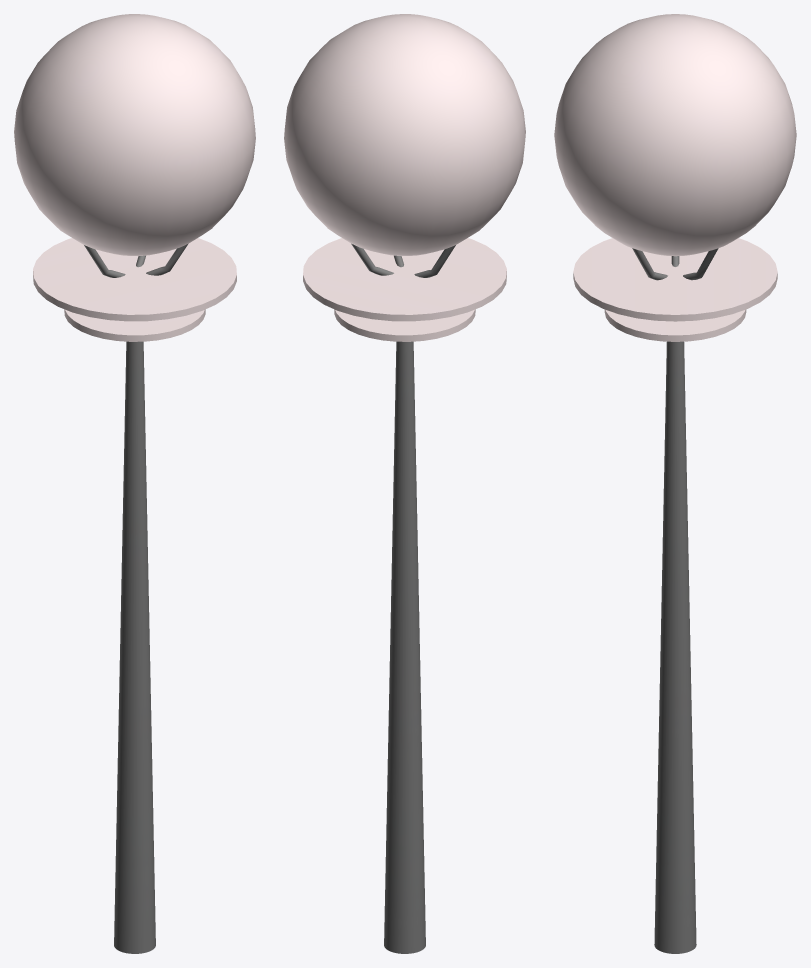
File: poste.fbx
3 renders of one model, left to right at view 1: azimuth 30°, elevation 25°; view 2: azimuth 150°, elevation 25°; view 3: azimuth 270°, elevation 25°, orthographic.
Visible parts, largest first — view 1: Bola, Sphere.010; view 2: Bola, Sphere.010; view 3: Bola, Sphere.010.
Boxes of the visible parts, x1,y1,x2,y2 form: Bola: (14, 14, 255, 255); Sphere.010: (33, 238, 236, 953); Bola: (284, 14, 525, 255); Sphere.010: (303, 238, 506, 953); Bola: (554, 14, 796, 256); Sphere.010: (573, 238, 777, 953).
Size of the model in its own units: 101 by 424 by 101.
1 material, 1 textured.
